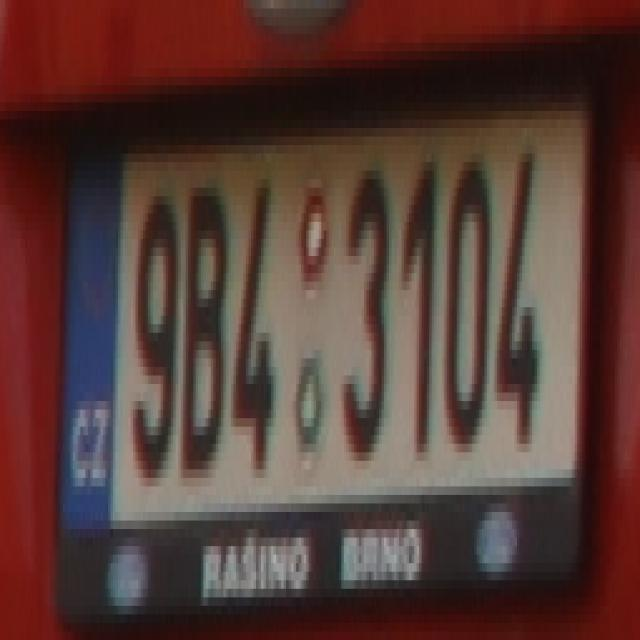0: (440, 136, 490, 461)
3: (344, 153, 386, 470), (394, 154, 434, 460)
4: (492, 145, 545, 452), (226, 162, 276, 478)
9: (128, 188, 178, 487)
B: (180, 179, 223, 486)
